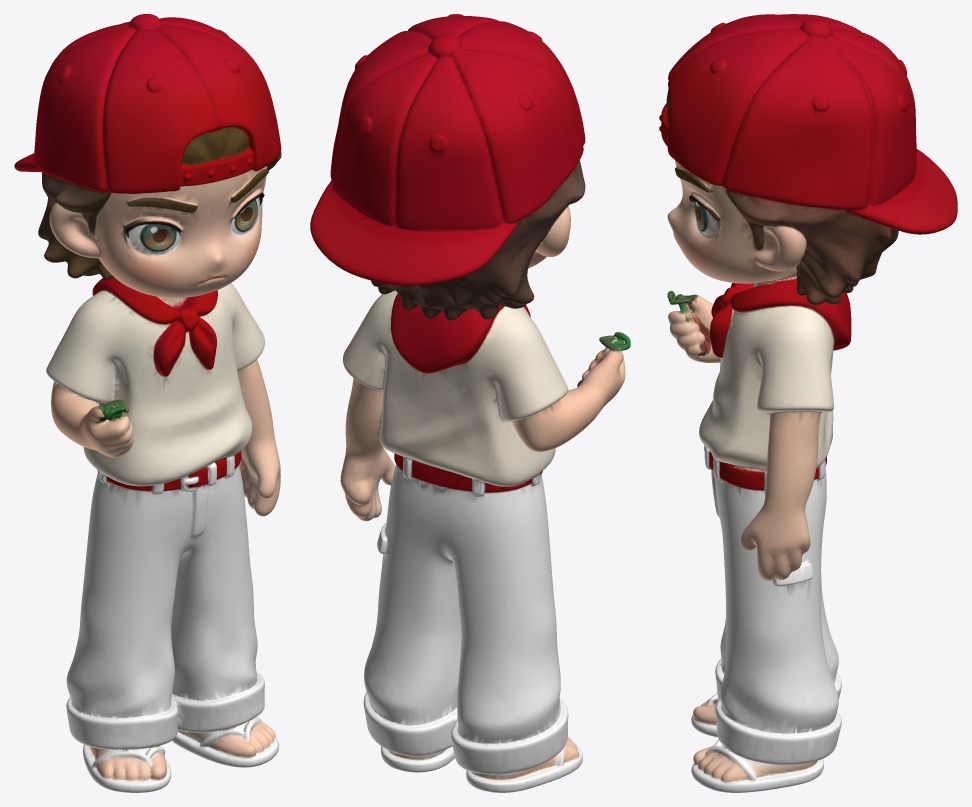
The model's file is mascot-corner.mobile.glb.
3 renders of one model, left to right at view 1: azimuth 30°, elevation 25°; view 2: azimuth 150°, elevation 25°; view 3: azimuth 270°, elevation 25°, orthographic. The views are drawn at different scales.
Visible parts, largest first — view 1: Mesh_0.001; view 2: Mesh_0.001; view 3: Mesh_0.001.
Part boxes in pixels (x1,y1,x2,y2): Mesh_0.001: [14, 14, 281, 792]; Mesh_0.001: [310, 14, 630, 792]; Mesh_0.001: [659, 14, 957, 792].
Bounding box in the file's own units: 0.0654 × 0.2 × 0.0742.
1 material, 1 textured.
